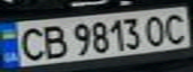1: (106, 16, 127, 52)
3: (121, 15, 145, 49)
8: (90, 18, 112, 54)
9: (69, 20, 93, 56)
B: (36, 22, 69, 61)
C: (9, 25, 48, 62), (160, 10, 193, 45)
O: (139, 12, 172, 47)
